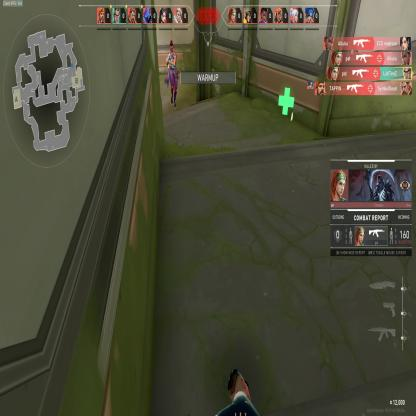enemy: (165, 38, 179, 110)
